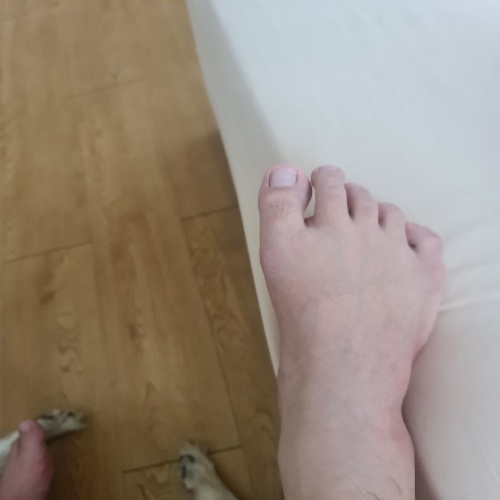3: (257, 160, 313, 243)
Top_Foot: (257, 166, 442, 499)
